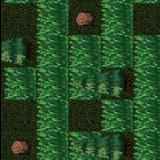Obstacle: (2, 34, 34, 67), (67, 3, 99, 35), (100, 68, 132, 98), (2, 132, 34, 160), (100, 132, 130, 160)
Slow: (35, 0, 67, 160), (132, 35, 160, 160), (100, 0, 132, 68), (67, 36, 100, 100), (2, 66, 34, 100), (100, 100, 132, 132), (66, 132, 100, 160)
